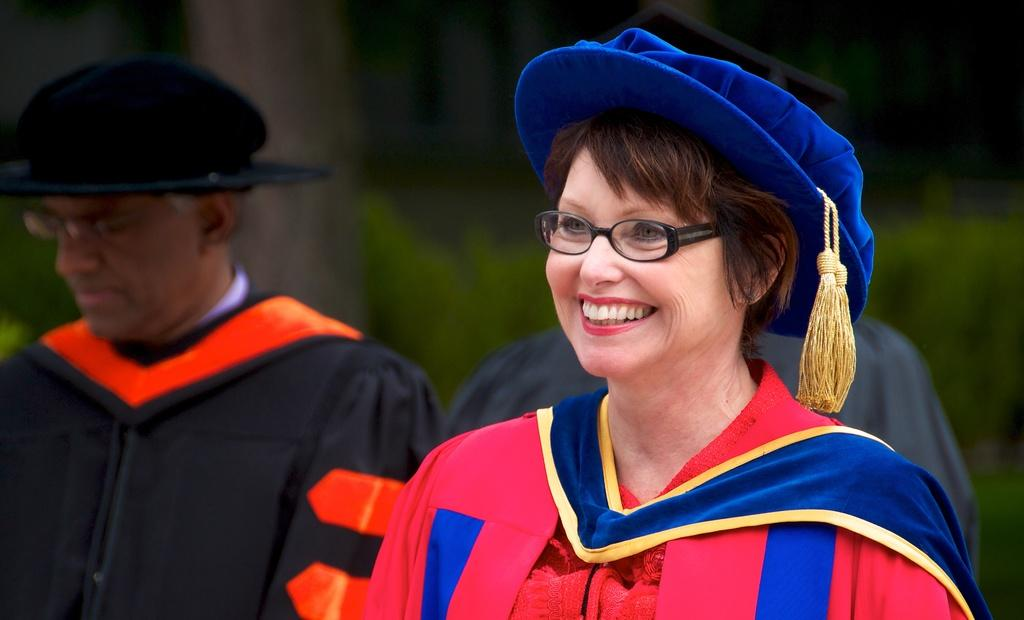Hat: (514, 26, 876, 410), (0, 54, 328, 194)
